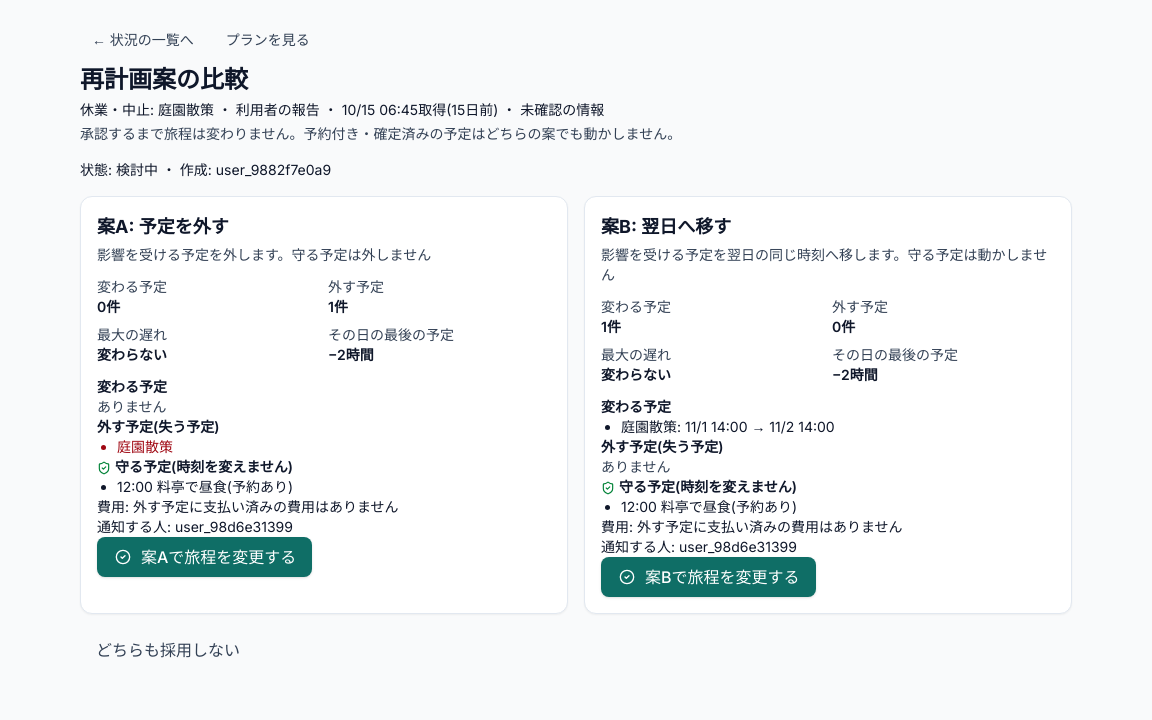
Scenario: ReplanPage (Gate P10) › 案A/Bを比べ、確認のうえ選んだ案を本案のrevisionで適用する
Expected: the element "案A" shows "予定を外す", x1=97 y1=216 x2=229 y2=237
Expected: the list item "庭園散策" is shown, x1=117 y1=438 x2=173 y2=455
Step 1. Click the button "案Bで旅程を変更する" → (708, 577), box x1=601 y1=557 x2=816 y2=597
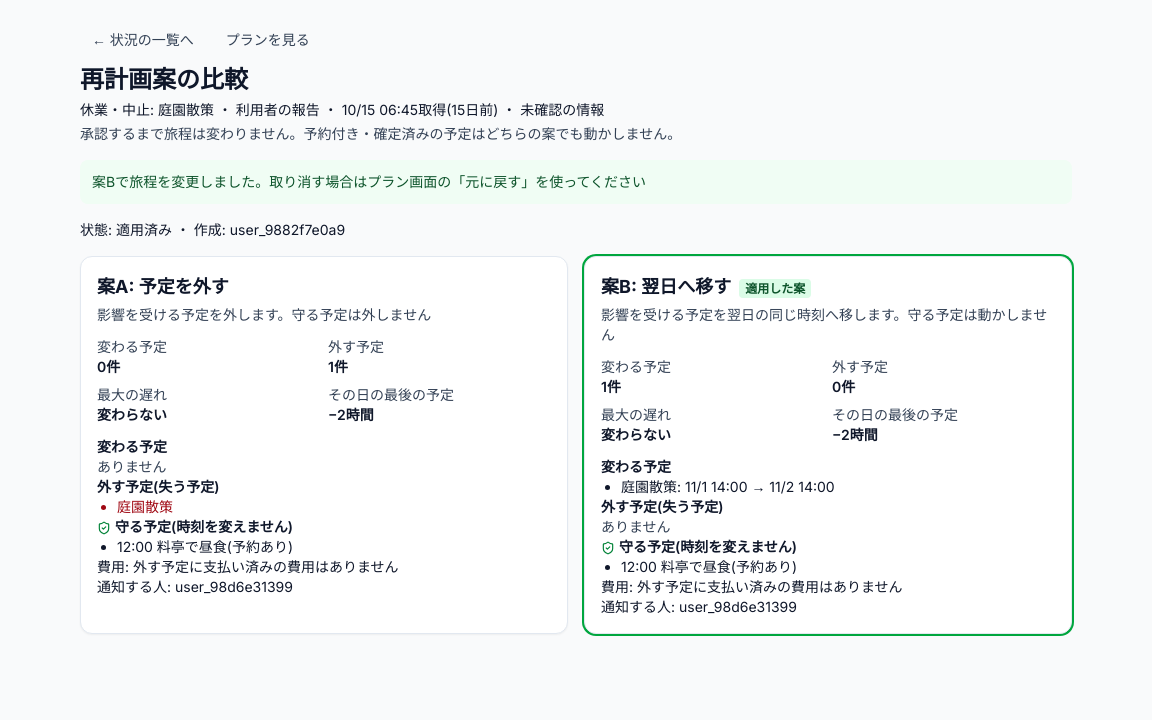
Expected: the text "案Bで旅程を変更しました。取り消す場合はプラン画面の「元に戻す」を使ってください" is shown, x1=80 y1=160 x2=1072 y2=204
Expected: the button "案Aで旅程を変更する" is gone
